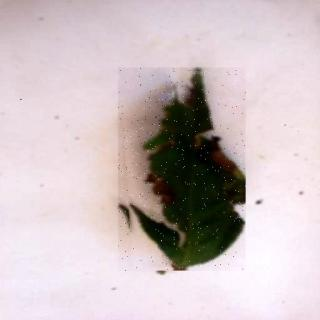Brown Blight: (119, 69, 247, 274)
